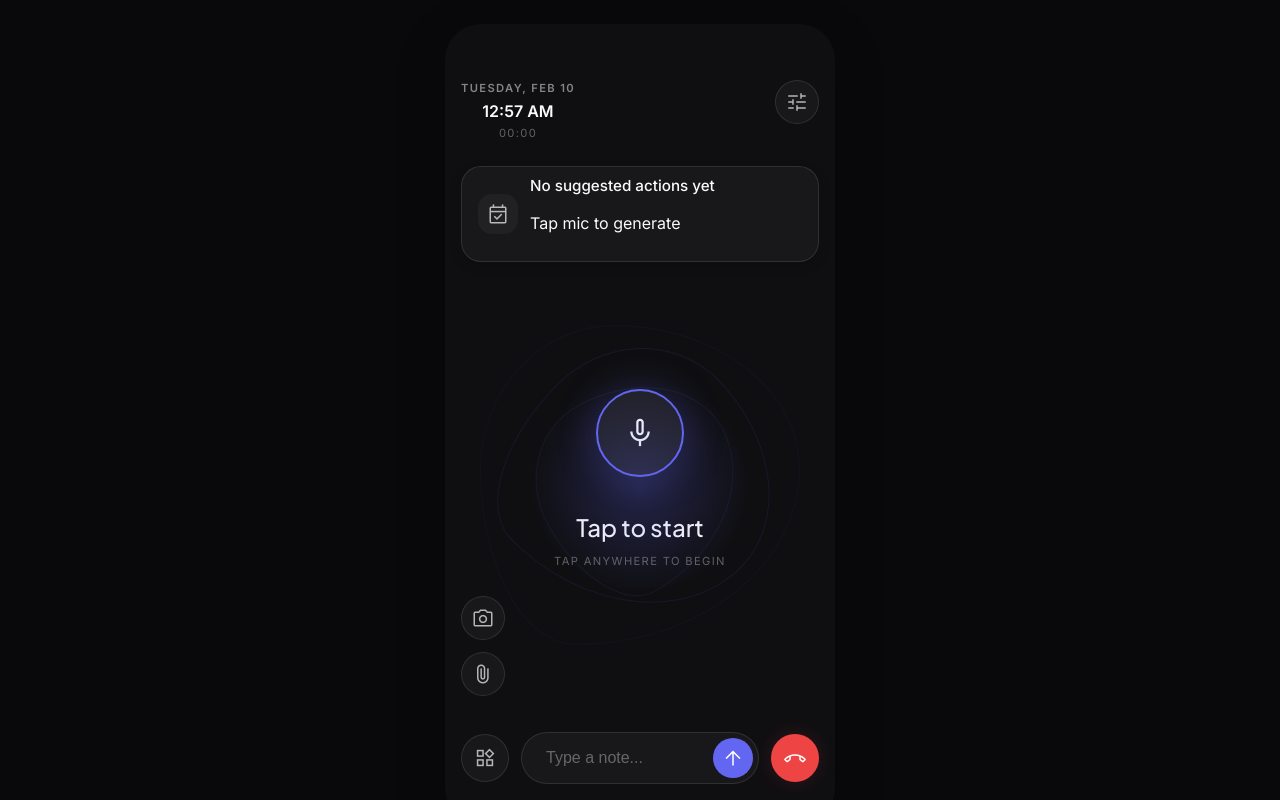
Test: Chat recap › opens recap on hang-up
Click the button named "End session" at (795, 758), box [771,734,819,782]
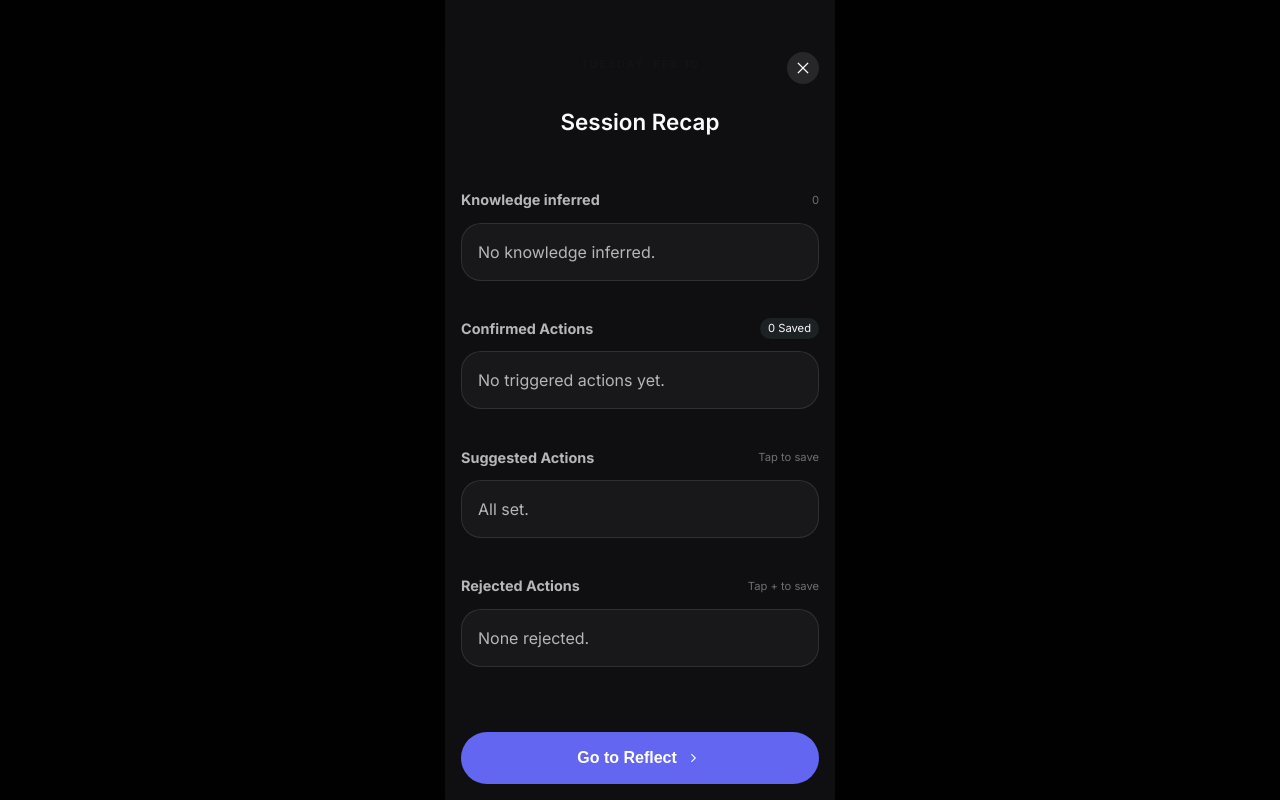
Expected: the heading "Session Recap" is shown, [560,108,719,135]
